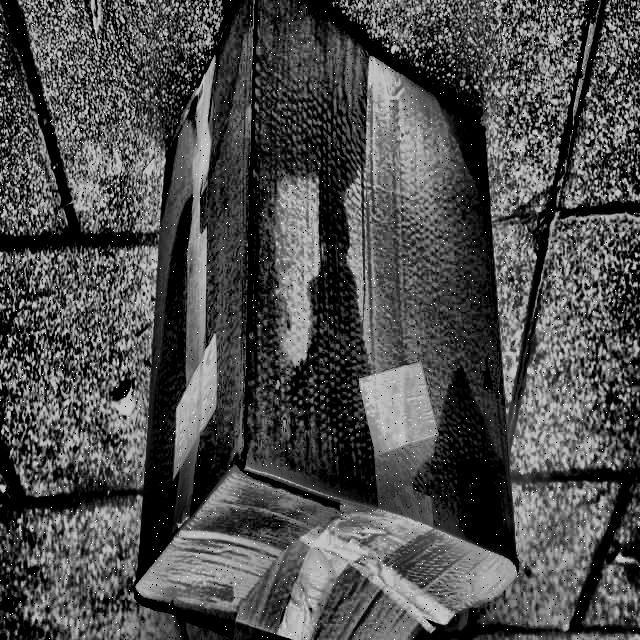box: (124, 1, 536, 640)
wet: (138, 1, 506, 579)
